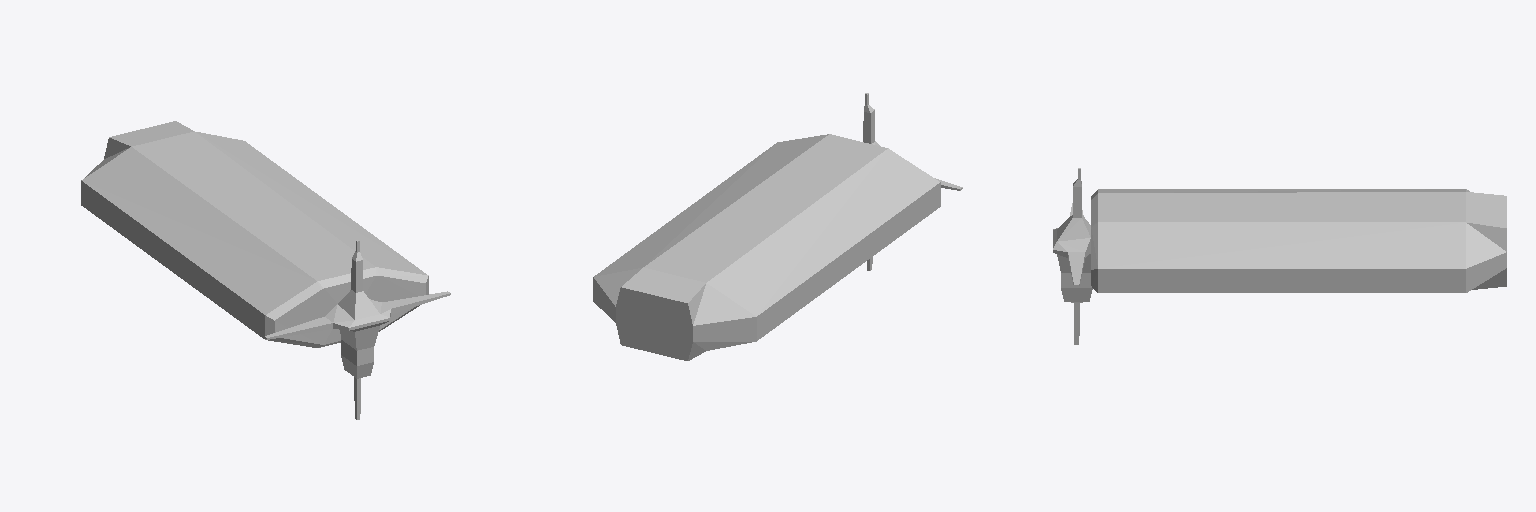
Rendered from tridacna-shield.obj.
3 renders of one model, left to right at view 1: azimuth 30°, elevation 25°; view 2: azimuth 150°, elevation 25°; view 3: azimuth 270°, elevation 25°, orthographic.
Visible parts, largest first — view 1: cube2; view 2: cube2; view 3: cube2.
Boxes of the visible parts, x1,y1,x2,y2 form: cube2: [81, 121, 450, 419]; cube2: [593, 93, 962, 360]; cube2: [1053, 168, 1506, 344].
Size of the model in its own units: 19.52 by 17.96 by 41.81.